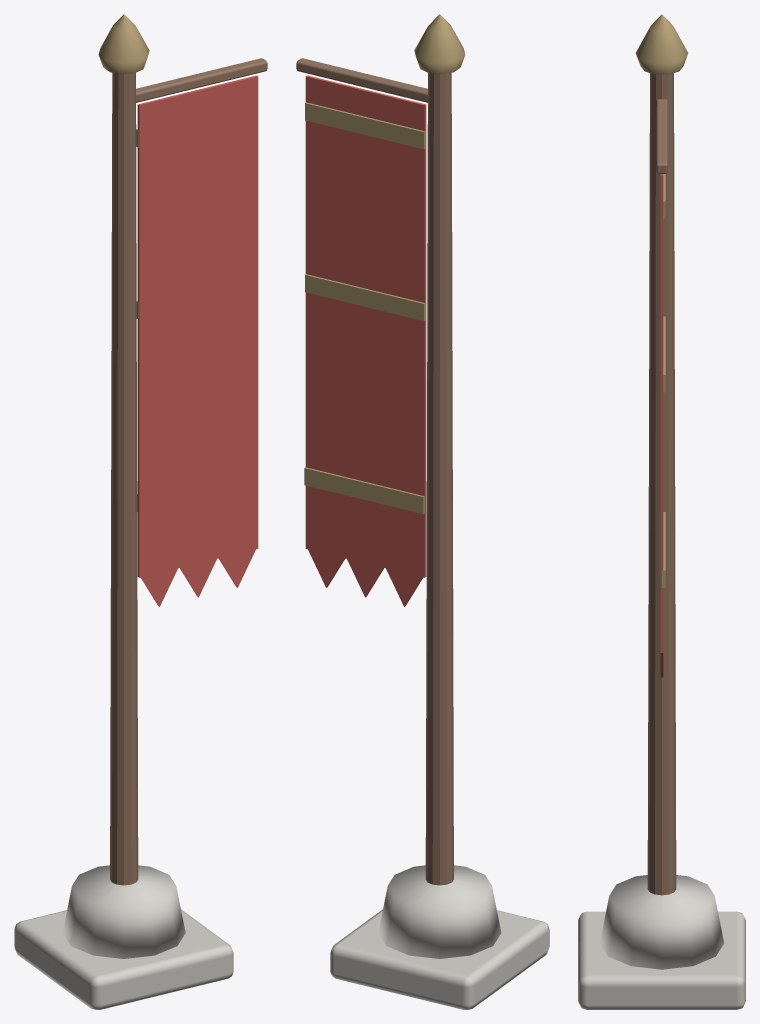
The model's file is banner-pole.glb.
3 views of the same model, side by side, from view 1: azimuth 30°, elevation 25°; view 2: azimuth 150°, elevation 25°; view 3: azimuth 270°, elevation 25° (orthographic).
Visible parts, largest first — view 1: ceremonial-banner-pole; view 2: ceremonial-banner-pole; view 3: ceremonial-banner-pole.
Boxes of the visible parts, x1,y1,x2,y2 form: ceremonial-banner-pole: [14, 14, 267, 1009]; ceremonial-banner-pole: [296, 14, 549, 1009]; ceremonial-banner-pole: [578, 14, 745, 1009].
Bounding box in the file's own units: 1.04 × 4.44 × 0.7.
